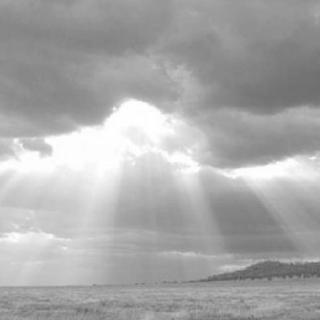Stratus: (0, 0, 320, 255)
